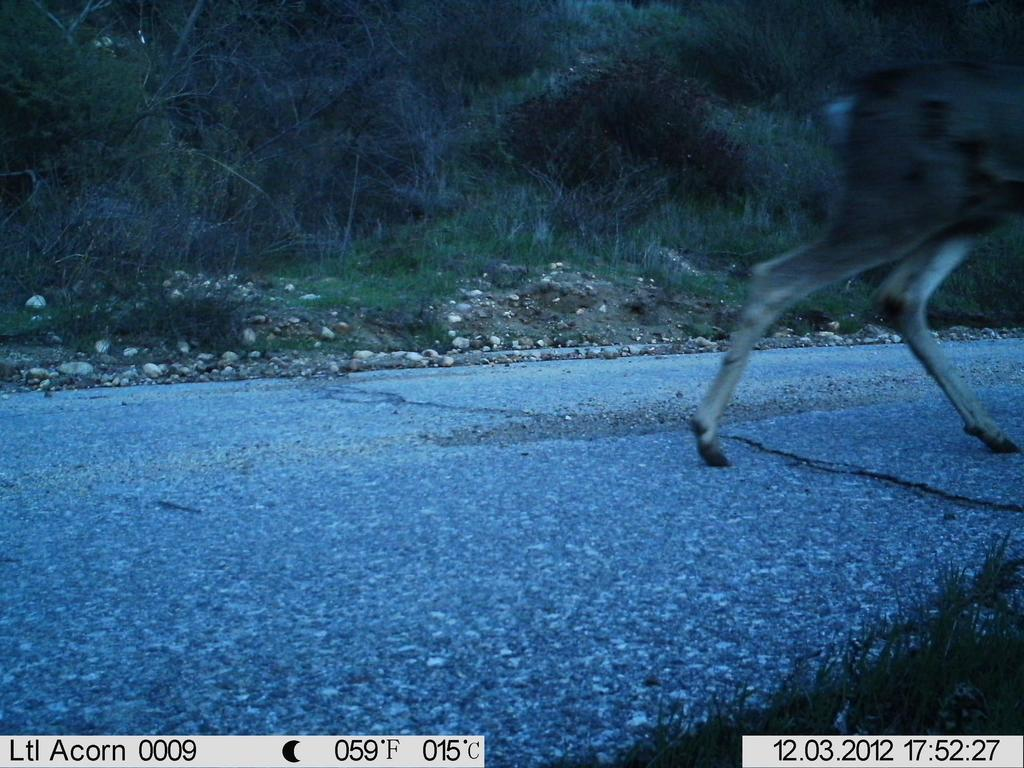deer: (656, 61, 1019, 487)
